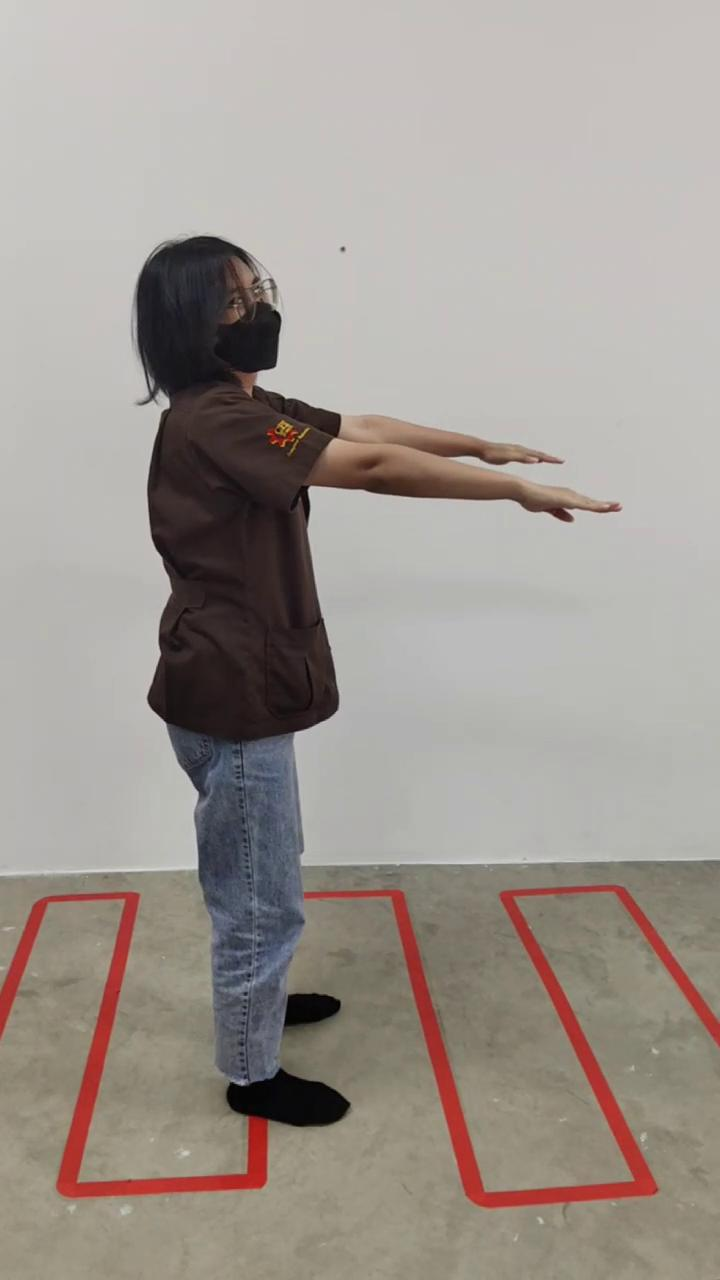squat up: (135, 235, 620, 1128)
